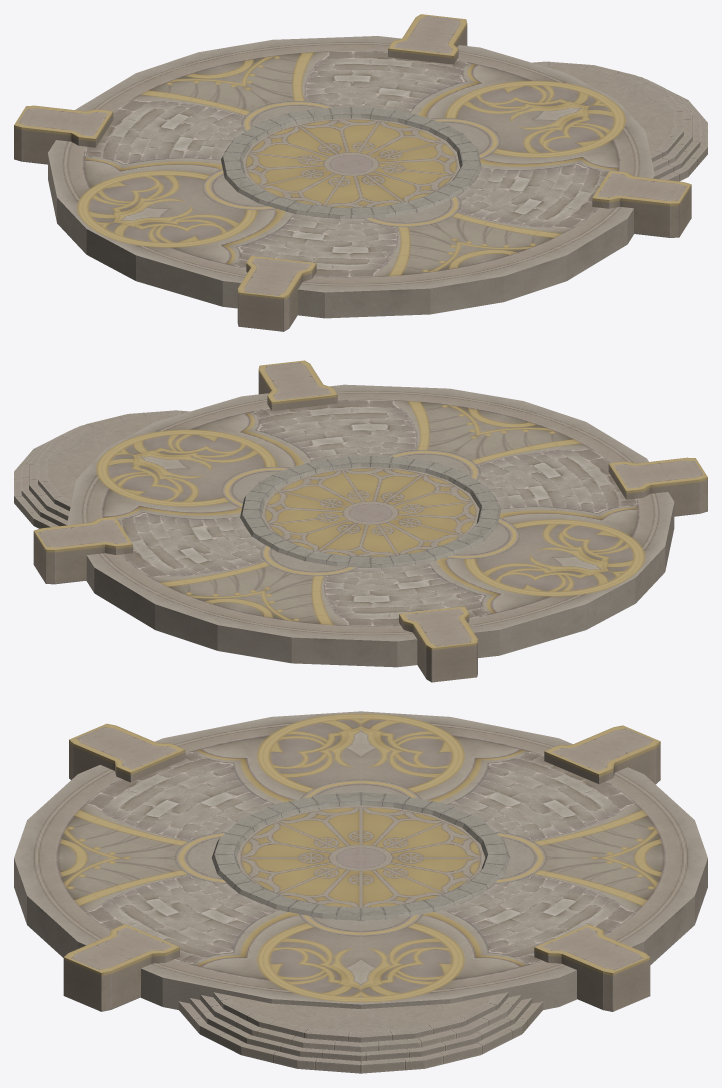
File: mod_zlc_jianzhu038_xy.FBX
3 renders of one model, top to bottom at view 1: azimuth 30°, elevation 25°; view 2: azimuth 150°, elevation 25°; view 3: azimuth 270°, elevation 25°, orthographic. The views are drawn at different scales.
Visible parts, largest first — view 1: mod_zlc_jianzhu038_xy; view 2: mod_zlc_jianzhu038_xy; view 3: mod_zlc_jianzhu038_xy.
Boxes of the visible parts, left/top/right/bottom form: mod_zlc_jianzhu038_xy: left=14, top=14, right=707, bottom=331; mod_zlc_jianzhu038_xy: left=14, top=360, right=707, bottom=682; mod_zlc_jianzhu038_xy: left=14, top=711, right=707, bottom=1073.
Bounding box in the file's own units: 3642 × 199 × 3205.
Materials: 3 (3 with a texture image).
